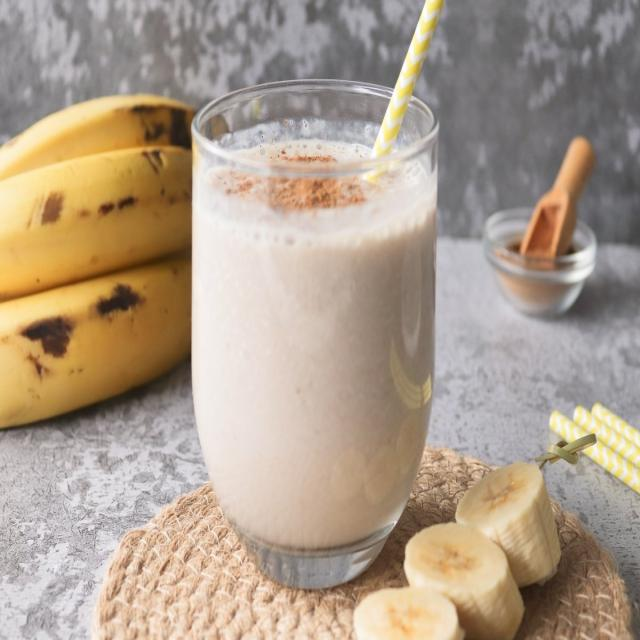avena: (182, 90, 450, 250)
